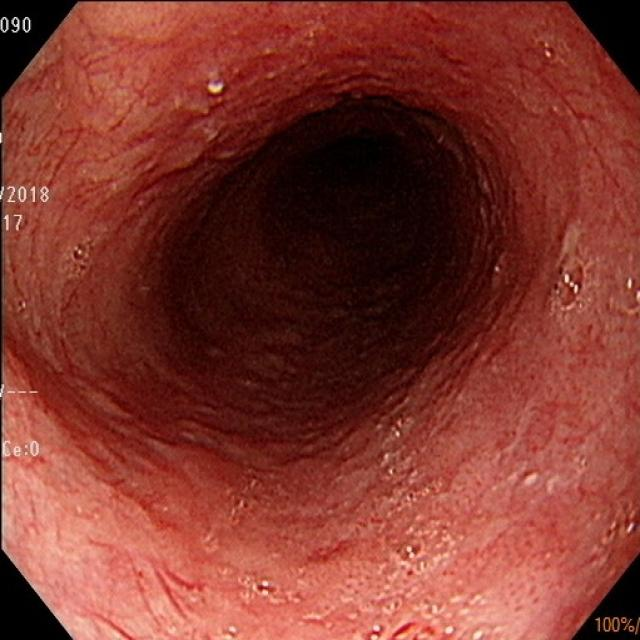A: (148, 28, 410, 162), (428, 339, 597, 469), (219, 445, 334, 525), (476, 501, 563, 590), (297, 525, 376, 575)
E: (258, 97, 474, 301)
S: (3, 185, 53, 206), (594, 615, 640, 635), (2, 383, 41, 403), (4, 441, 41, 461), (2, 206, 25, 235), (2, 15, 34, 35)
T: (386, 518, 455, 617), (546, 252, 592, 319), (238, 572, 305, 610), (61, 228, 96, 281)
